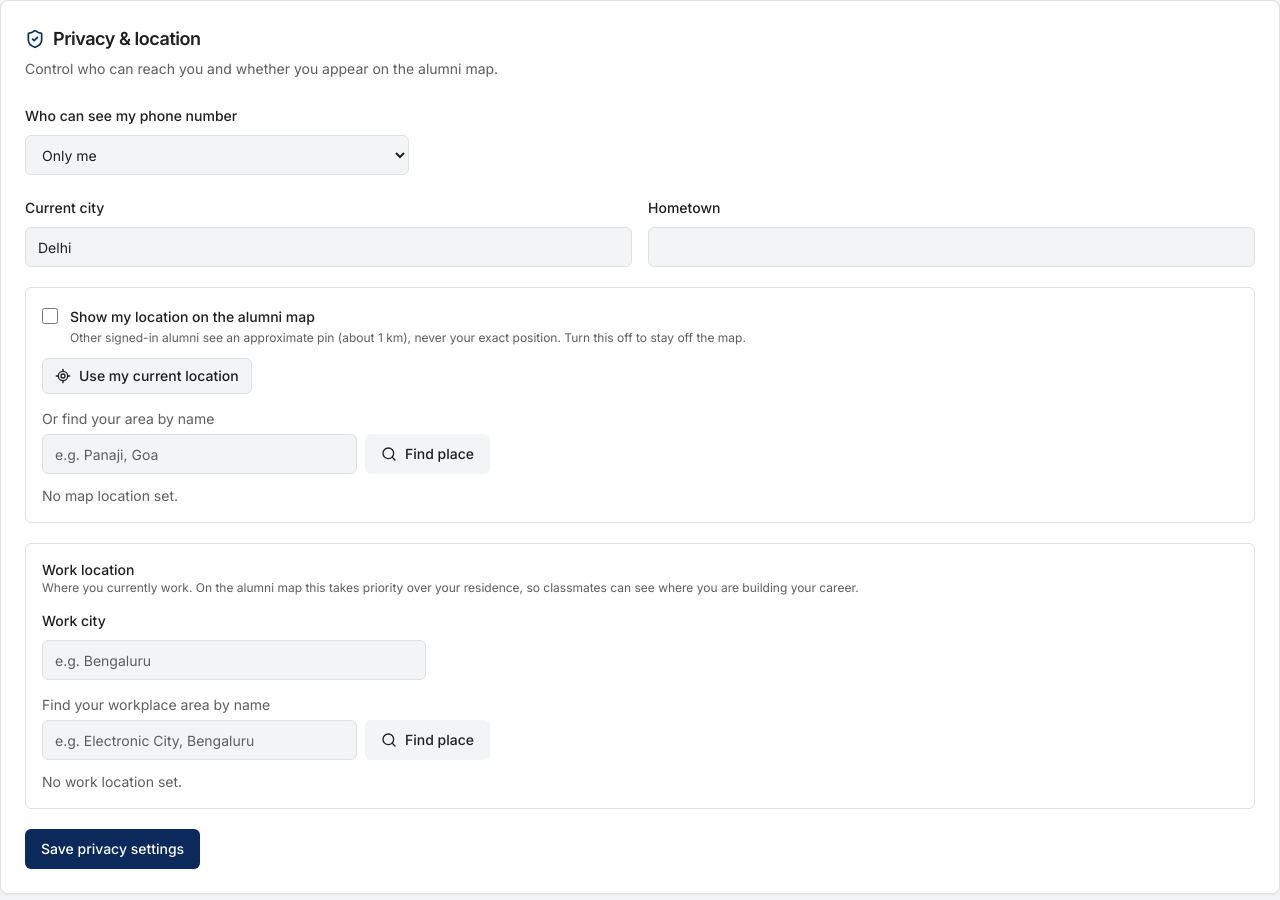
Test: <PrivacySection> › explains a denied location permission without saving anything
Click the button "Use my current location" at (147,376), box [42,358,252,394]
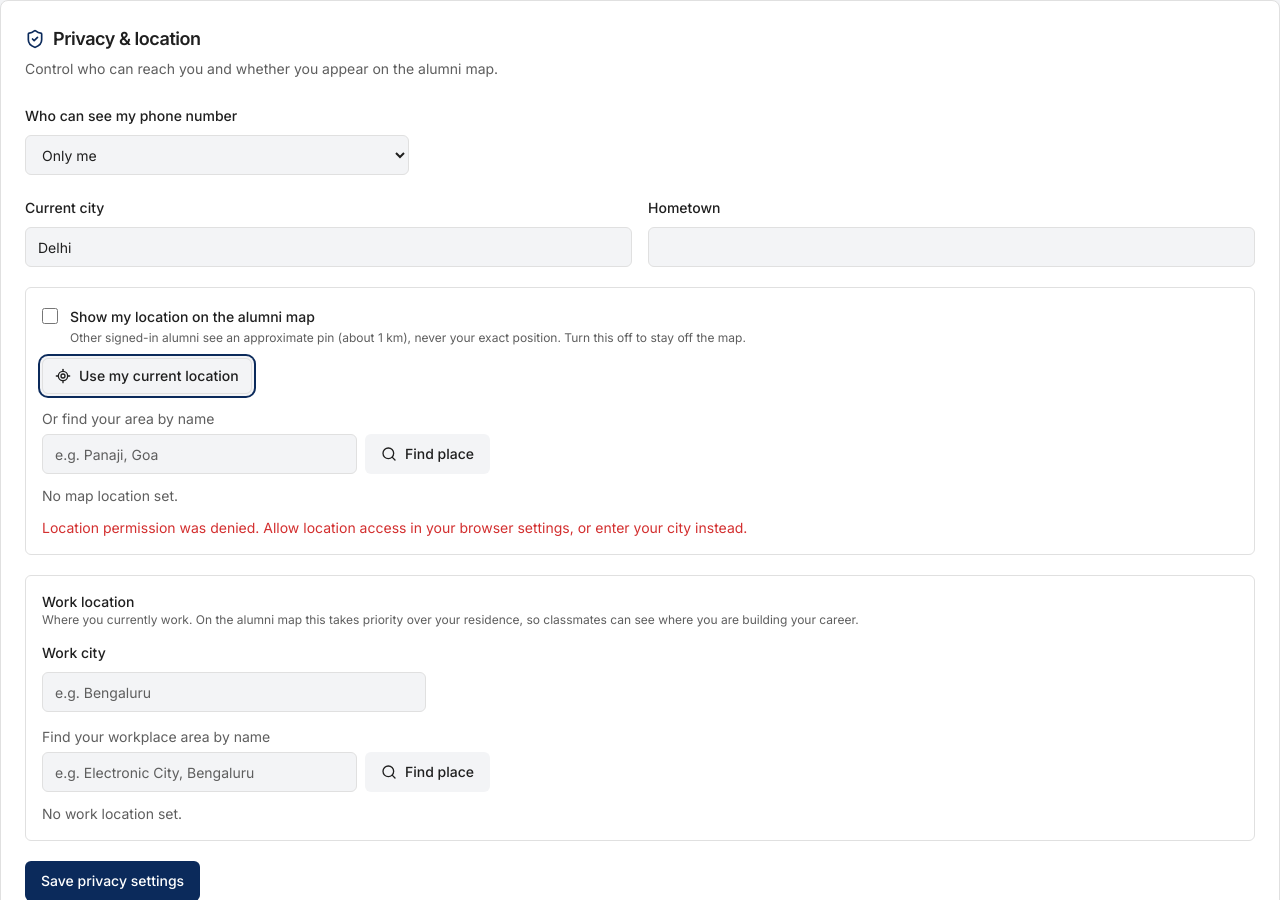
Expected: the text with test id "location-status" shows "No map location set", [42,487,178,504]
Now the message shows "permission was denied", box [42,519,747,536]
